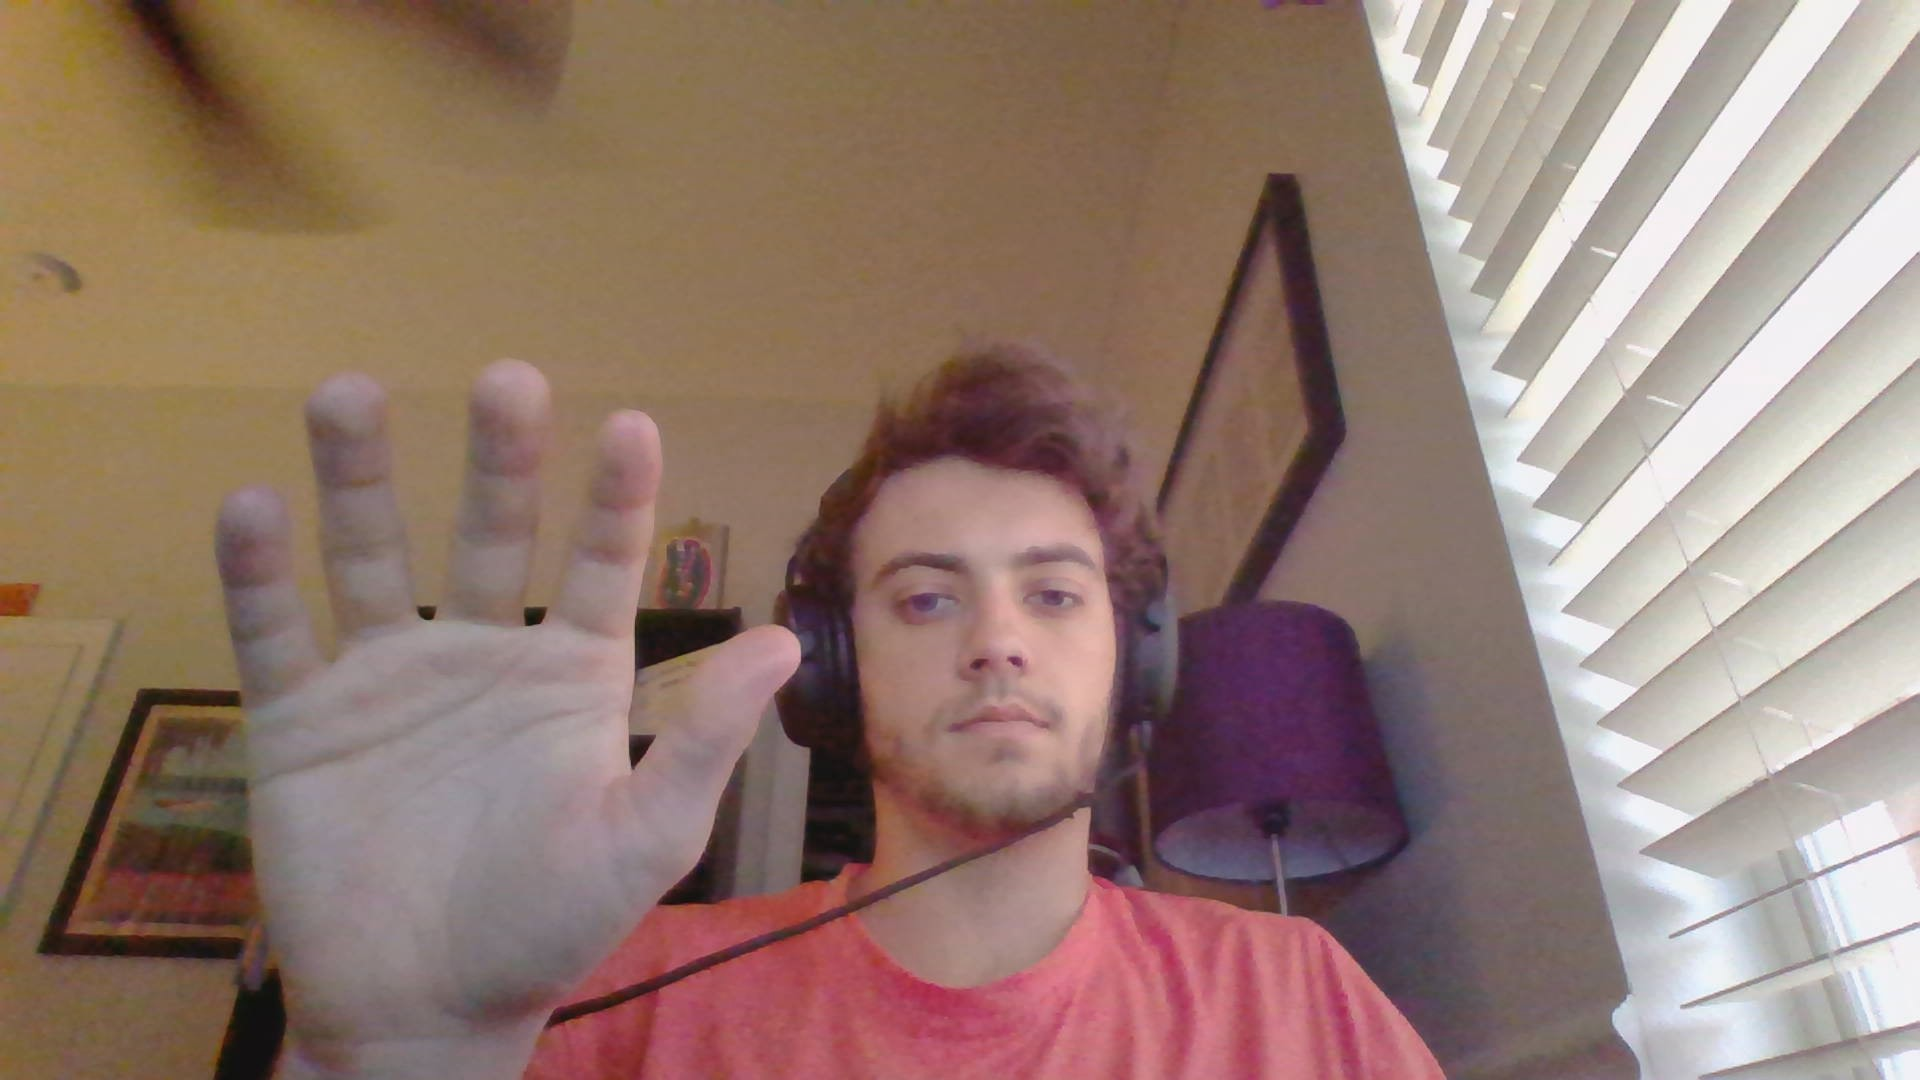Right Palm Up: (189, 360, 804, 1040)
